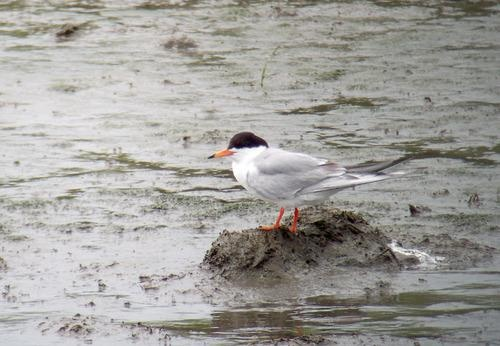bird: (205, 131, 405, 247)
